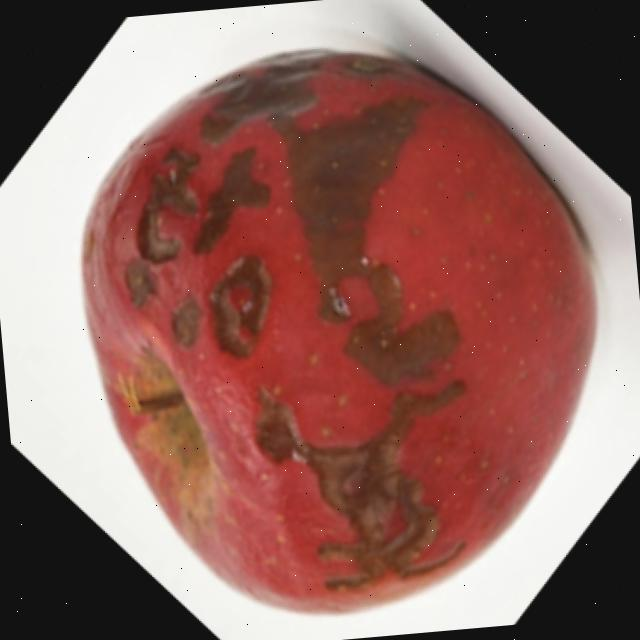overripe: (55, 23, 625, 640)
